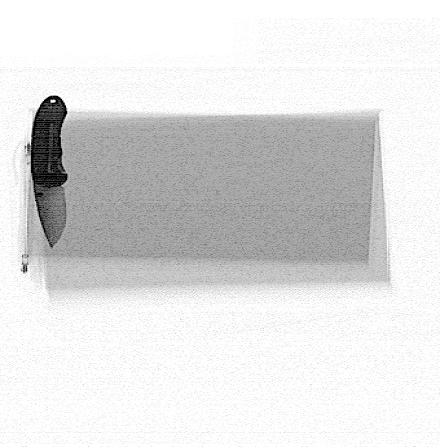Knife: (30, 94, 69, 250)
